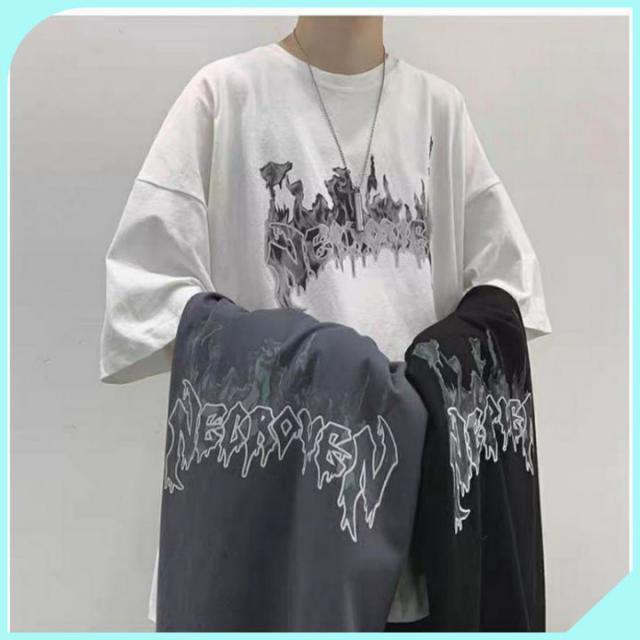Shirt: (103, 41, 553, 388)
